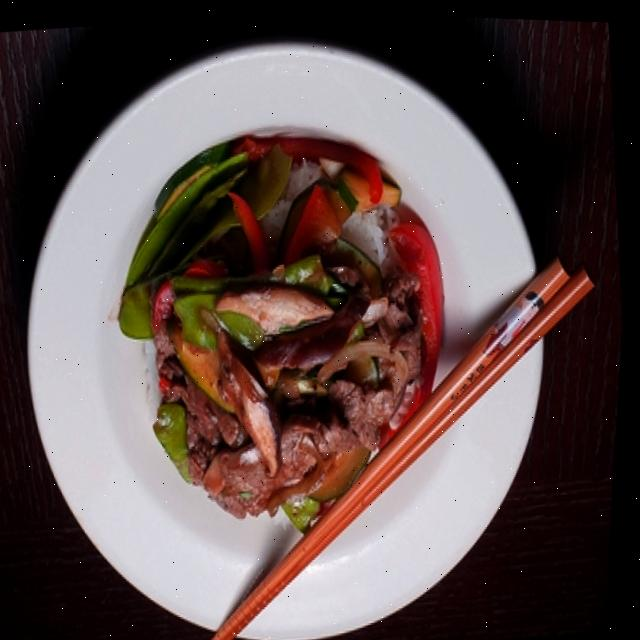牛肉菜式: (0, 15, 590, 640)
